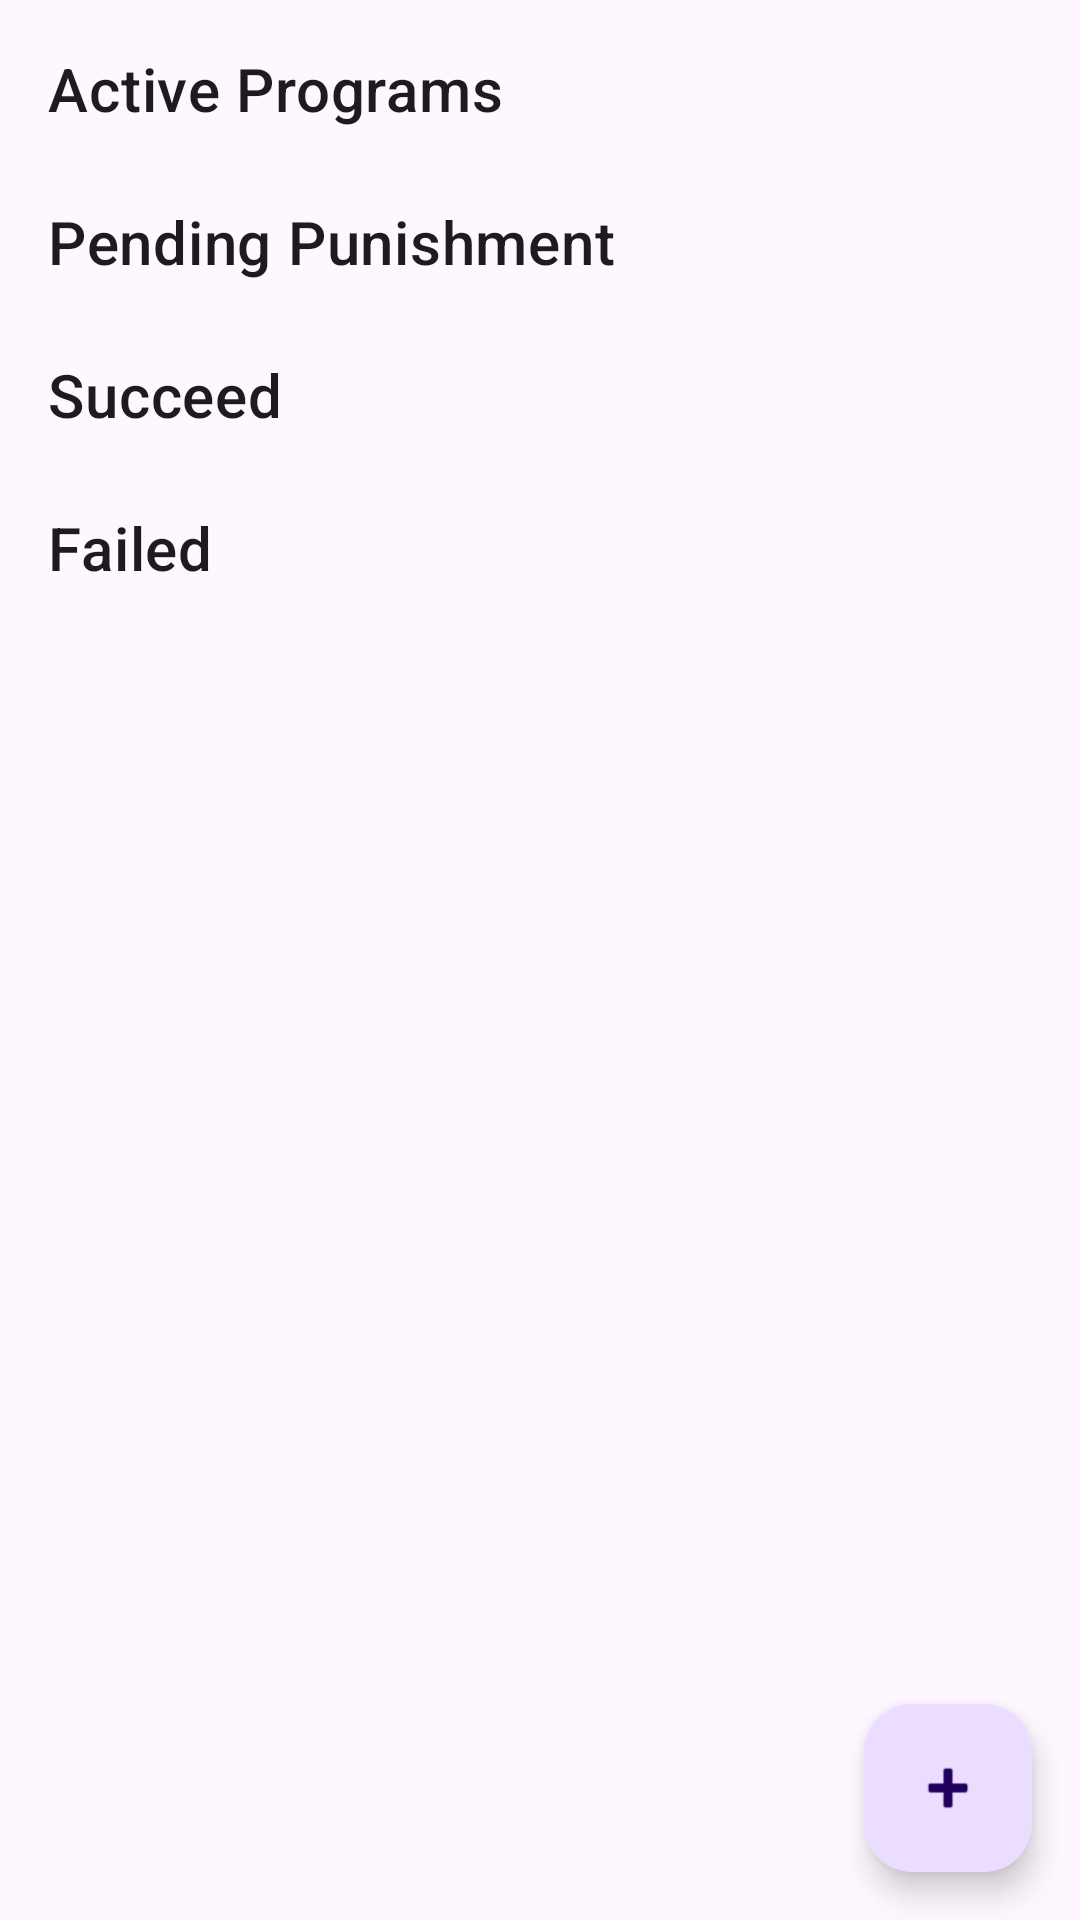

Icon click points for this 1080px×1920px phone screenshot, format (x=x, y=y):
Add Program: (x=948, y=1788)
